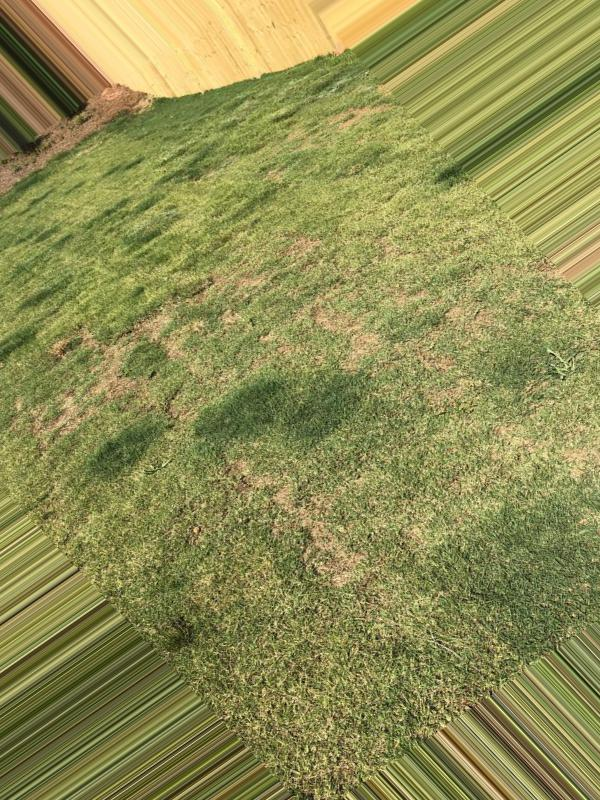patch: (179, 285, 399, 341), (77, 345, 405, 371), (431, 347, 515, 426)
